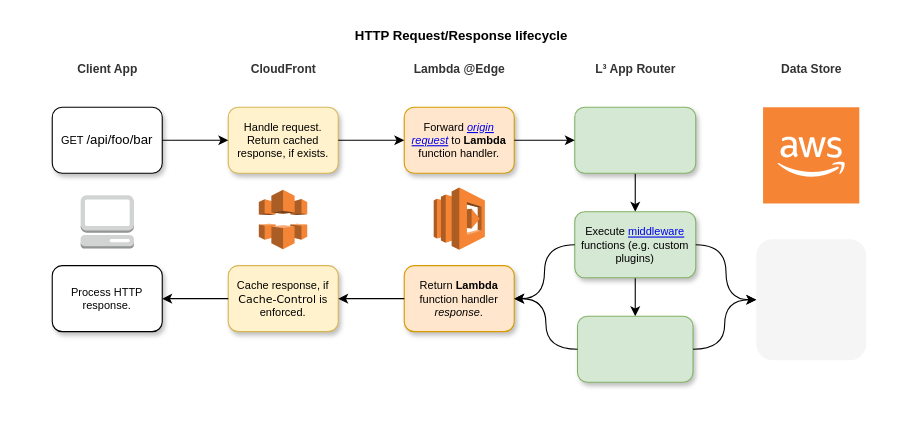
The diagram is 917 pixels wide and 433 high, and some of its shapes have lost their labels. The centre of each missing label's shape, as x and y in pixels:
Execute URI mapped route/resource handler.: pixel 636 350
origin: pixel 811 299
Parse the Lambda generated request (URI/parameters): pixel 635 141
